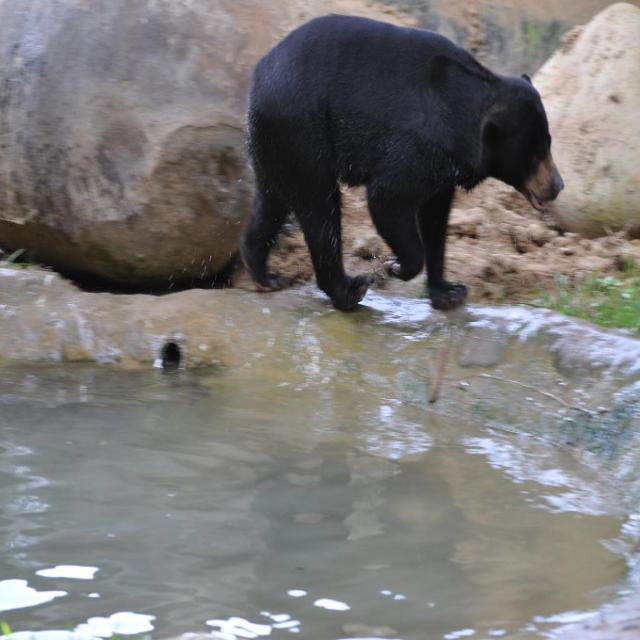Buffalo: (239, 14, 564, 314)
